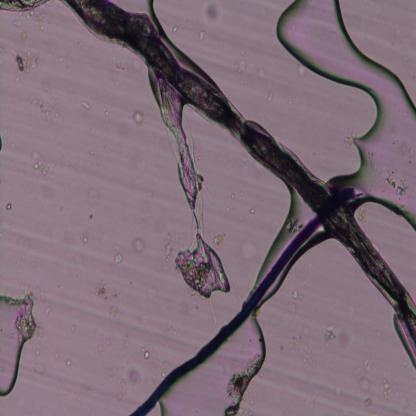Air bubble: (277, 0, 416, 229), (144, 318, 268, 416), (0, 287, 35, 399)
Background material: (30, 93, 59, 120), (12, 50, 41, 76), (31, 146, 54, 178), (354, 357, 372, 394), (202, 1, 223, 27), (386, 176, 410, 197), (95, 282, 111, 302), (324, 323, 336, 347), (131, 236, 146, 254), (381, 376, 391, 400), (236, 59, 249, 74), (113, 251, 123, 266), (134, 110, 144, 125), (296, 64, 307, 77), (289, 289, 301, 300), (12, 17, 23, 28), (81, 100, 91, 111), (110, 306, 119, 318), (198, 29, 207, 41), (362, 398, 372, 408), (266, 92, 275, 103), (20, 31, 27, 43), (144, 350, 150, 360), (172, 26, 178, 34), (6, 202, 12, 210)
Cellulose filter fibre: (56, 0, 416, 355), (150, 81, 231, 293), (0, 0, 55, 14)
Microfibre: (130, 214, 322, 414)
